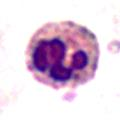neutrophil: (21, 17, 103, 94)
